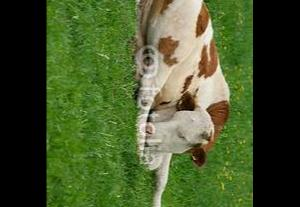cow: (132, 0, 231, 207)
